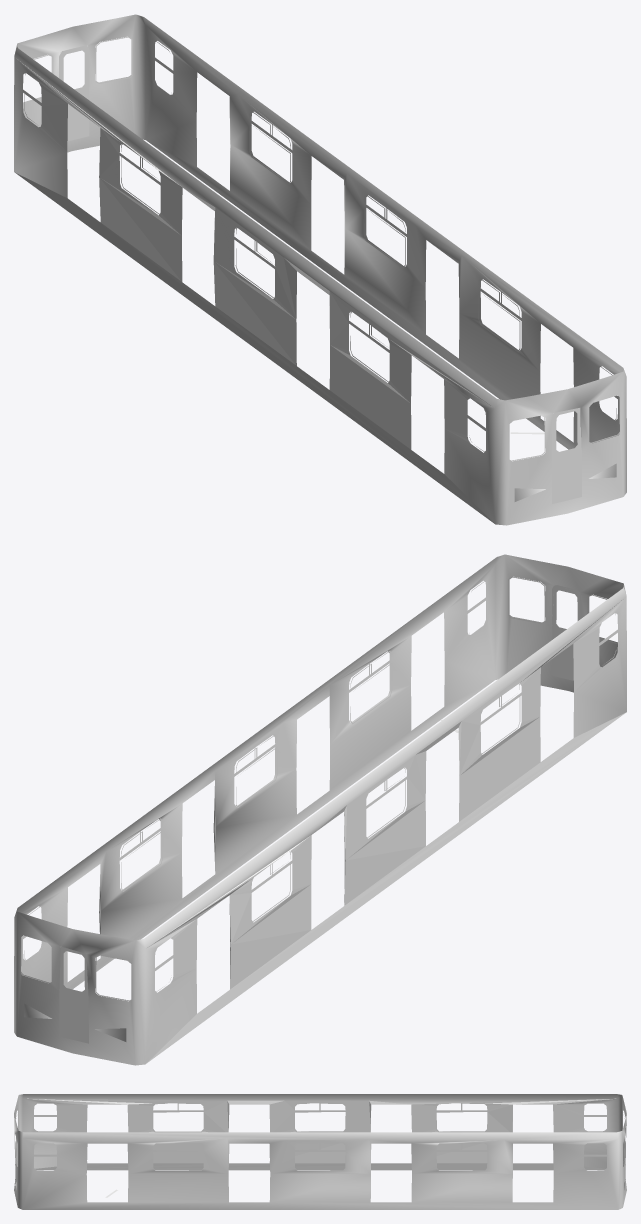
3 views of the same model, one above another, from view 1: azimuth 30°, elevation 25°; view 2: azimuth 150°, elevation 25°; view 3: azimuth 270°, elevation 25° (orthographic). The views are drawn at different scales.
Size of the model in its own units: 2.9 by 2.62 by 18.88.
1 material, 1 textured.
